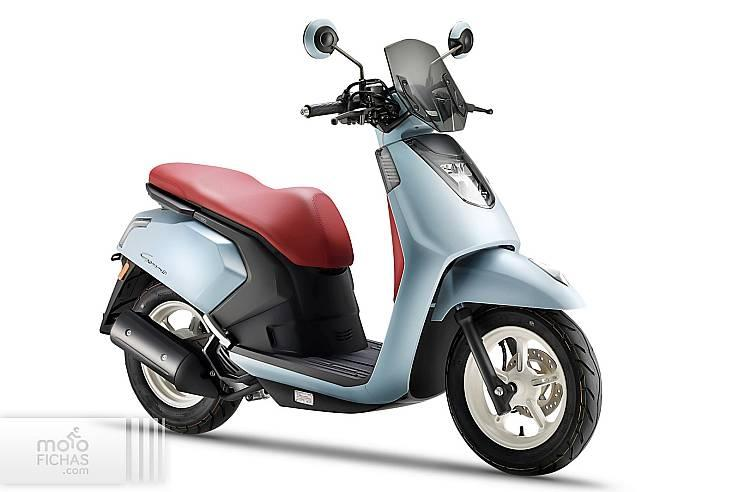engine-chasis: (192, 211, 396, 413)
exhaust: (110, 311, 263, 401)
frontside: (367, 37, 580, 415)
handlebar: (299, 18, 411, 134), (440, 20, 475, 59), (467, 104, 494, 114)
motorbike: (100, 38, 599, 473)
rearside: (99, 181, 248, 334)
seat: (148, 163, 354, 269)
tank: (388, 196, 405, 300)
watermark: (0, 418, 166, 484)
wheel: (446, 307, 599, 473), (124, 352, 238, 432), (132, 279, 212, 339)
